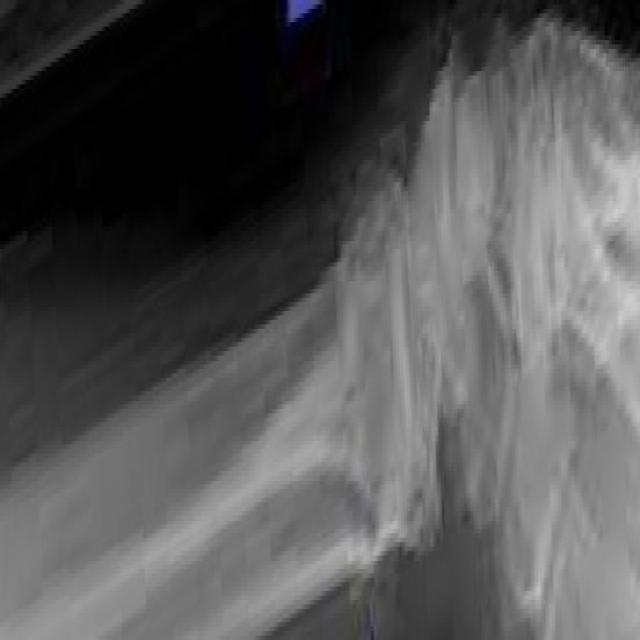Impacted: (320, 93, 483, 614)
